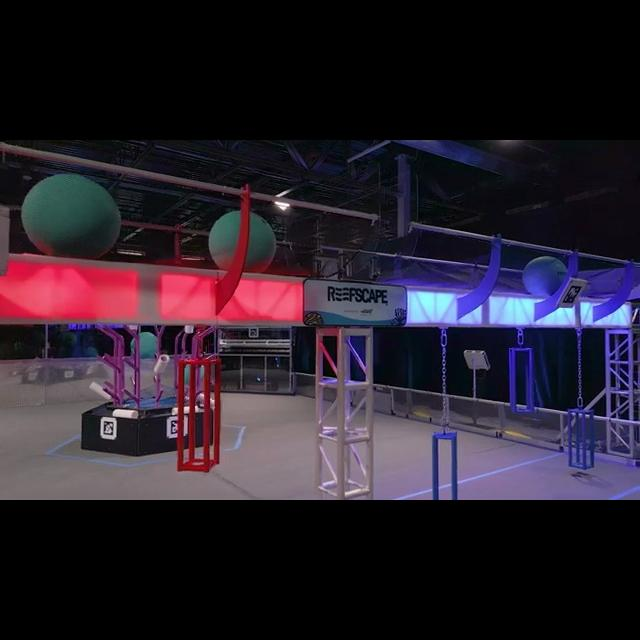ALGAE: (20, 172, 120, 260), (208, 209, 276, 273), (522, 257, 568, 297)
